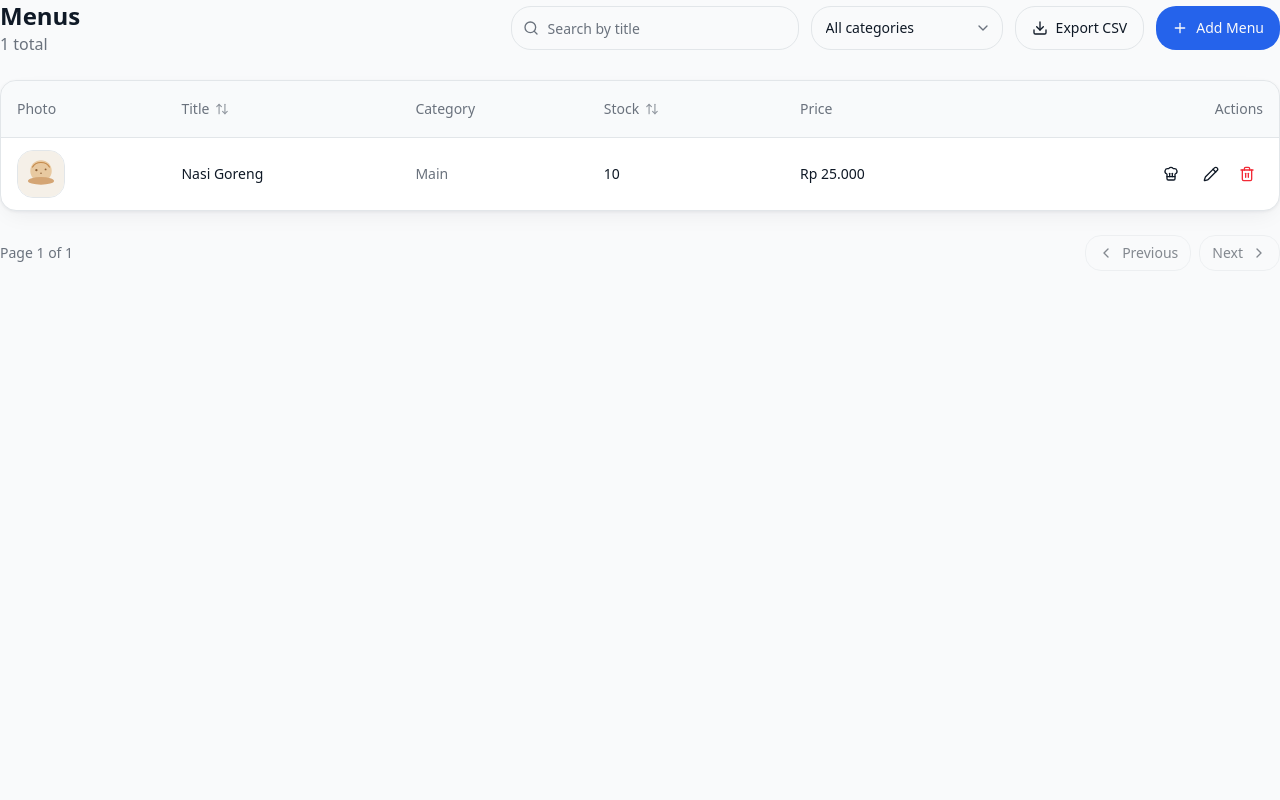
Test: AdminMenusPage › shows helper text on create instead of ingredients editor
Check: the text "Nasi Goreng" is shown, box x1=182 y1=164 x2=263 y2=184
Click the button "Add Menu" at (1218, 28), box x1=1156 y1=6 x2=1279 y2=50
(page scrolled)
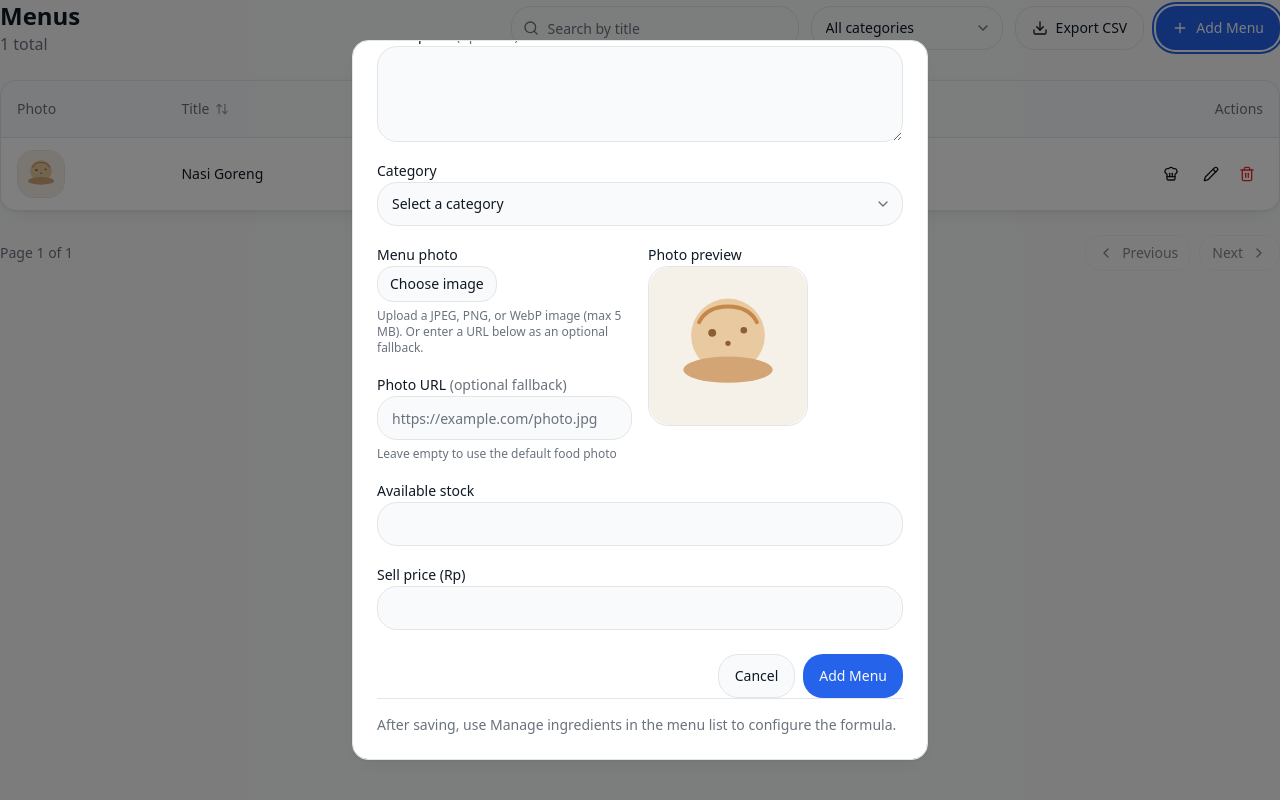
Check: the text "After saving, use Manage ingredients in the menu list to configure the formula." is shown, box x1=377 y1=698 x2=903 y2=735
